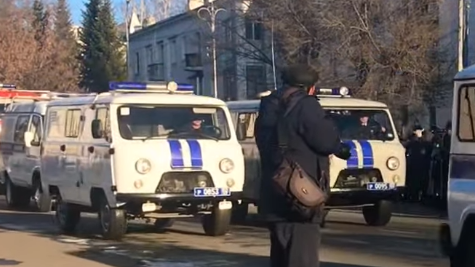police car: (42, 78, 239, 238), (238, 86, 407, 227)
